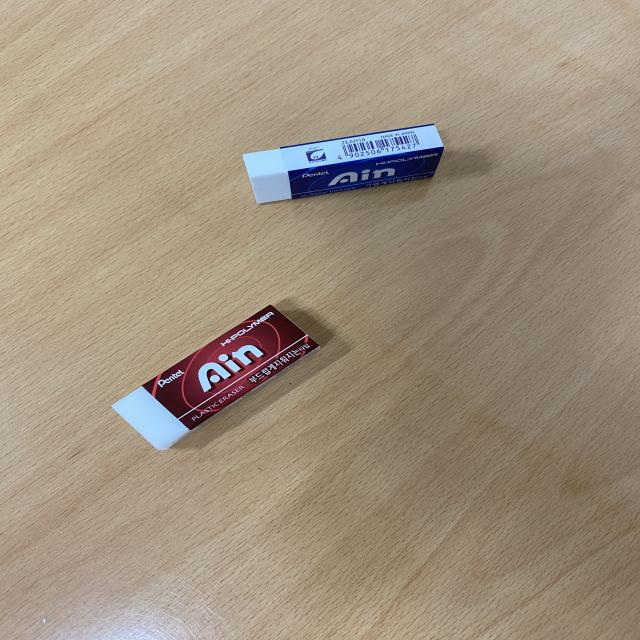blue: (239, 118, 448, 207)
red: (110, 300, 322, 454)
